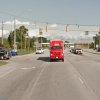Bus: (43, 35, 68, 61)
